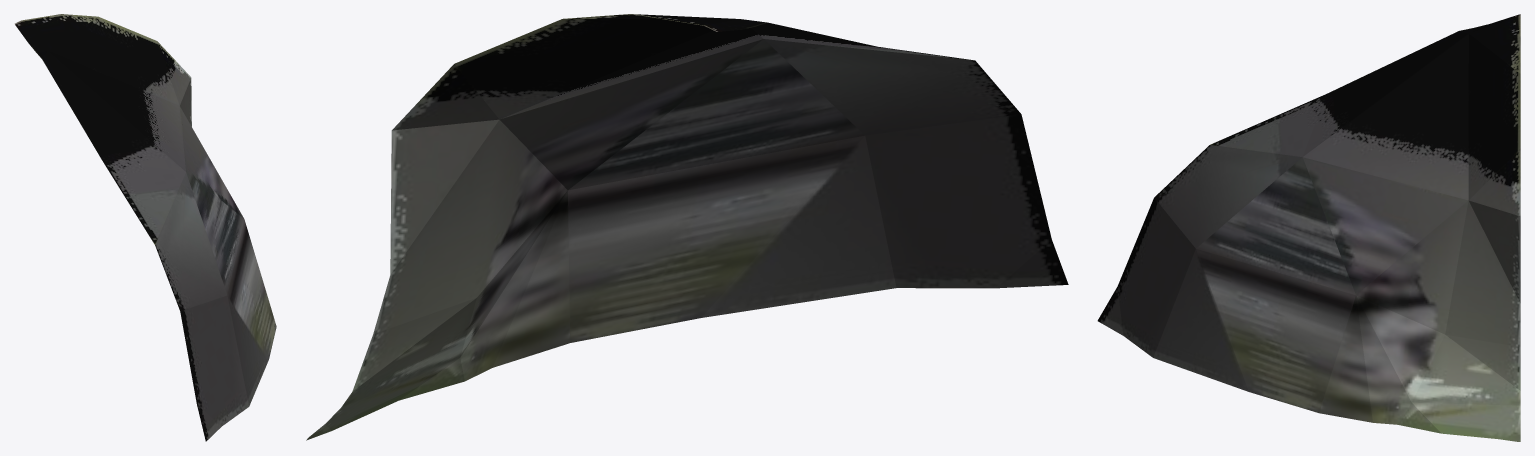
3 views of the same model, side by side, from view 1: azimuth 30°, elevation 25°; view 2: azimuth 150°, elevation 25°; view 3: azimuth 270°, elevation 25° (orthographic). The views are drawn at different scales.
Size of the model in its own units: 0.982 by 1.17 by 1.45.
2 materials, 2 textured.
